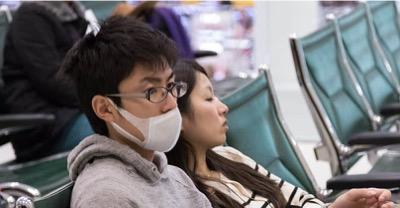with_mask: (119, 70, 185, 151)
without_mask: (188, 82, 230, 145)
